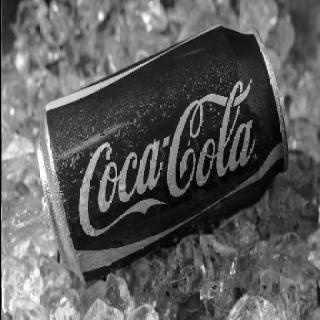alumunium_can: (35, 26, 288, 286)
